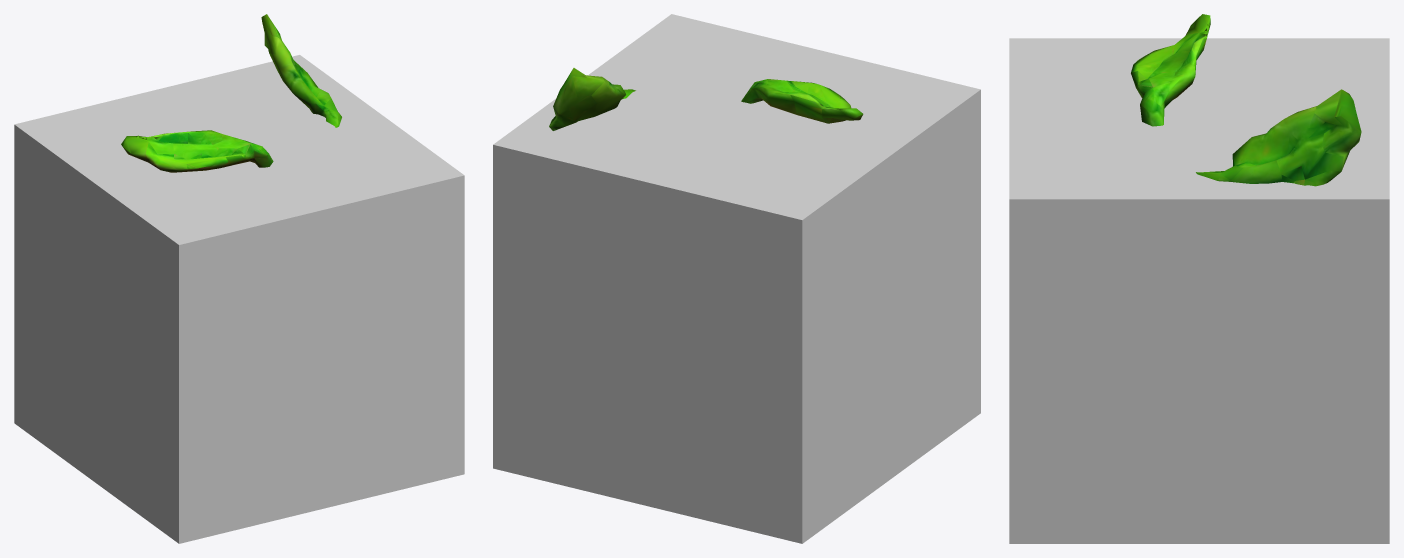
Rendered from emma-house.glb.
3 renders of one model, left to right at view 1: azimuth 30°, elevation 25°; view 2: azimuth 150°, elevation 25°; view 3: azimuth 270°, elevation 25°, orthographic. The views are drawn at different scales.
Parts seen in each view (by area): view 1: Cube, Mesh_0; view 2: Cube, Mesh_0; view 3: Cube, Mesh_0.
Boxes of the visible parts, x1,y1,x2,y2 form: Cube: (14, 55, 464, 543); Mesh_0: (121, 14, 341, 172); Cube: (493, 14, 980, 543); Mesh_0: (549, 68, 863, 130); Cube: (1009, 38, 1389, 543); Mesh_0: (1131, 14, 1361, 186).
Bounding box in the file's own units: 1 × 1.23 × 1.
Materials: 1 (1 with a texture image).
